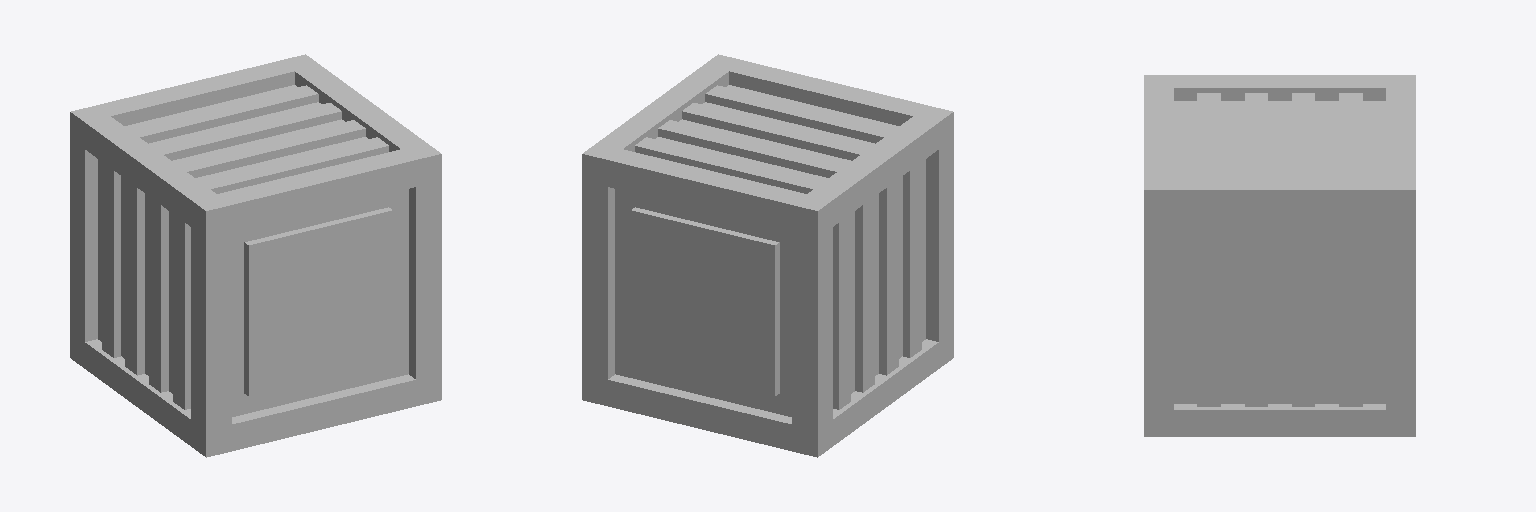
The model's file is obj_interactive_watersensor.obj.
3 renders of one model, left to right at view 1: azimuth 30°, elevation 25°; view 2: azimuth 150°, elevation 25°; view 3: azimuth 270°, elevation 25°, orthographic.
Visible parts, largest first — view 1: Cube; view 2: Cube; view 3: Cube.
Part boxes in pixels (bbox=[...]): Cube: bbox=[70, 54, 441, 457]; Cube: bbox=[582, 54, 953, 457]; Cube: bbox=[1144, 75, 1415, 436].
Bounding box in the file's own units: 1 × 1 × 1.